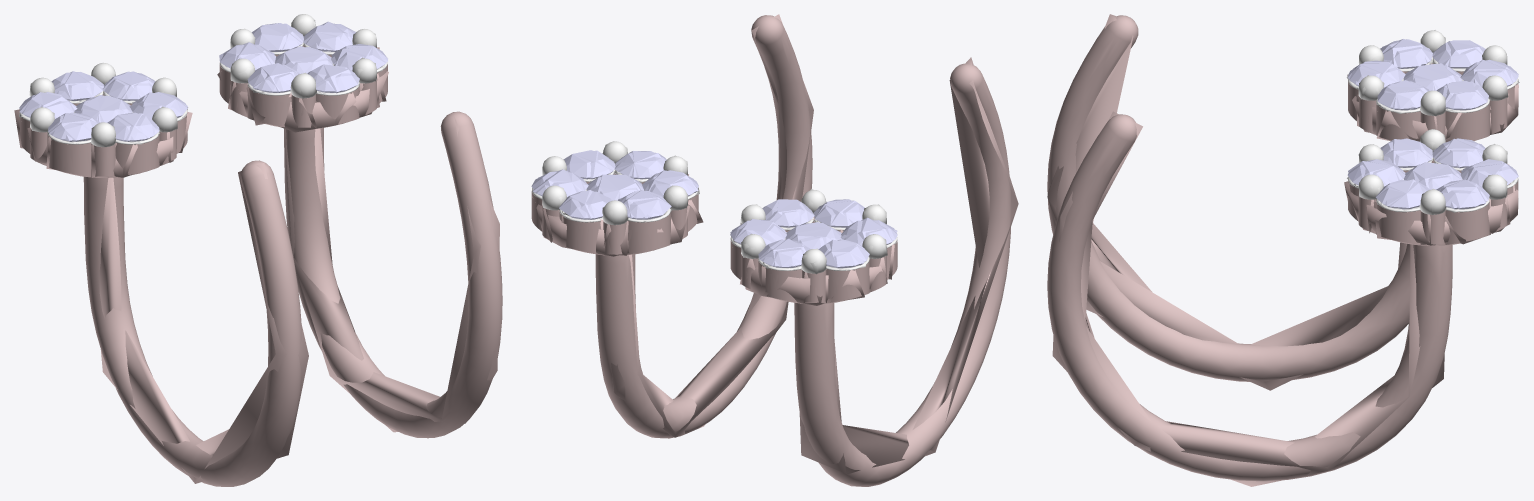
3 views of the same model, side by side, from view 1: azimuth 30°, elevation 25°; view 2: azimuth 150°, elevation 25°; view 3: azimuth 270°, elevation 25° (orthographic). The views are drawn at different scales.
Parts seen in each view (by area): view 1: highPolyMesh, lowPolyMesh; view 2: highPolyMesh, lowPolyMesh; view 3: highPolyMesh, lowPolyMesh.
Boxes of the visible parts, x1,y1,x2,y2 form: highPolyMesh: (19, 14, 502, 486); lowPolyMesh: (14, 14, 499, 483); highPolyMesh: (531, 15, 1011, 486); lowPolyMesh: (532, 14, 1018, 473); highPolyMesh: (1047, 15, 1518, 481); lowPolyMesh: (1047, 14, 1519, 486).
Bounding box in the file's own units: 0.0119 × 0.0121 × 0.0139.
